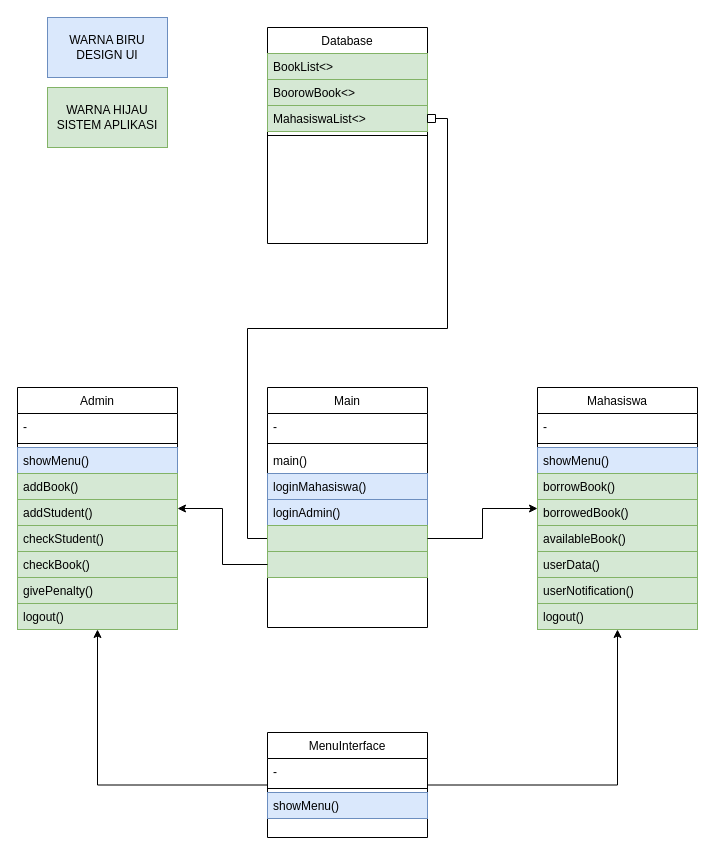
Some shapes in this 715 by 855 pixel diagram are drawn without their labels. Each missing label, with the centre of its shape:
validasiAdmin(): (x=347, y=564)
validasiMahasiswa(): (x=347, y=538)
